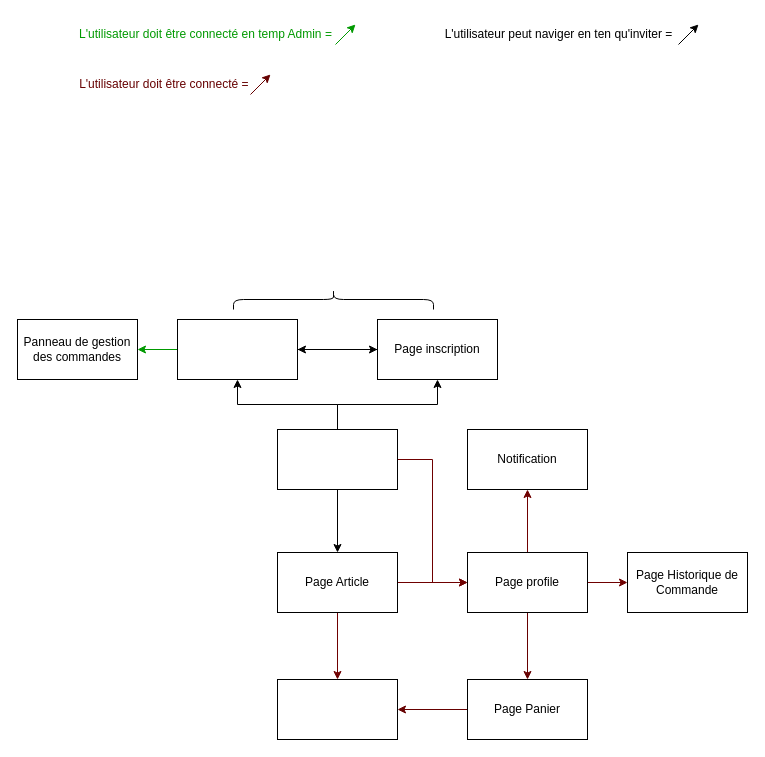
Image size: 765x757. Some labels were removed from this diagram. Each missing label, with the centre of its shape:
Page connection: (237,349)
Page d'accueil: (337,459)
Page Paiement: (337,709)
Quand l'utilisateur est connecté il est ramène à la page accueil: (333,299)
